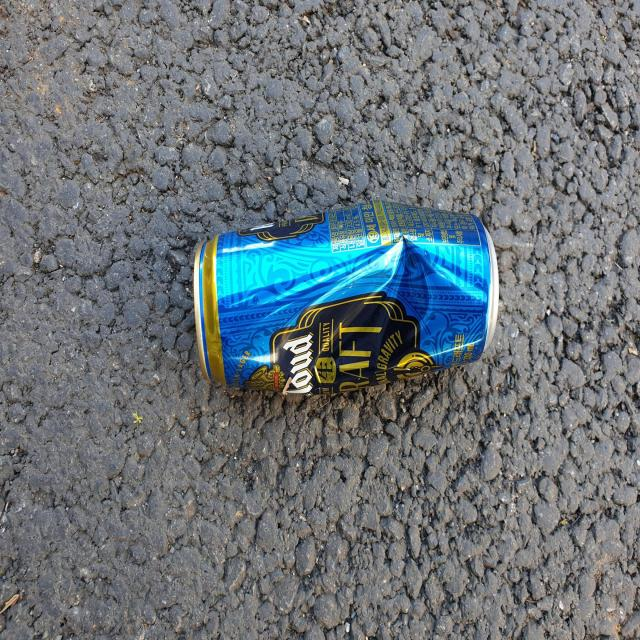can: (194, 200, 499, 394)
